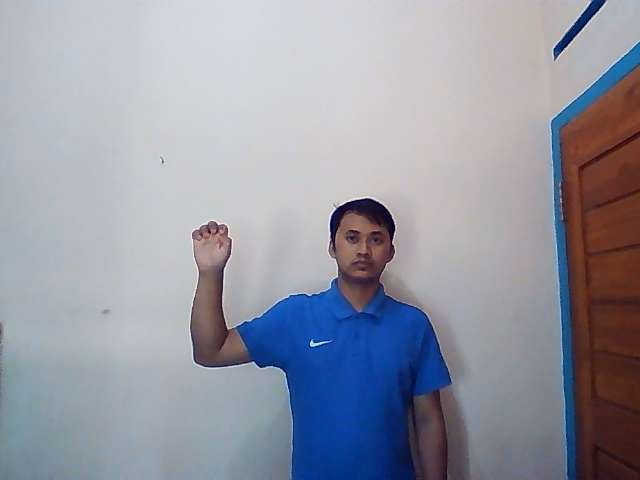E: (191, 219, 232, 268)
